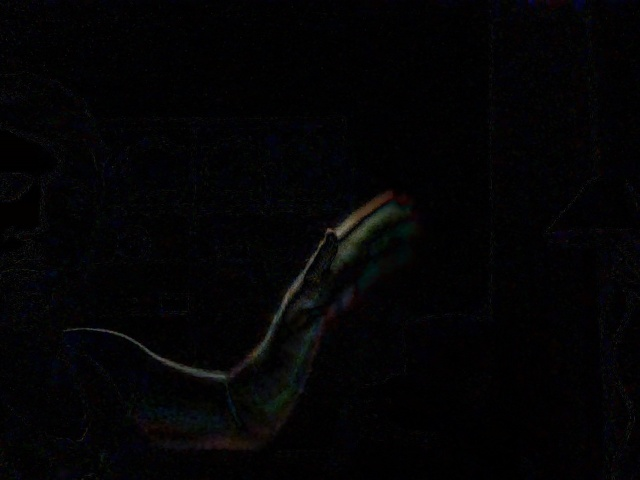hand_pa: (277, 177, 428, 345)
